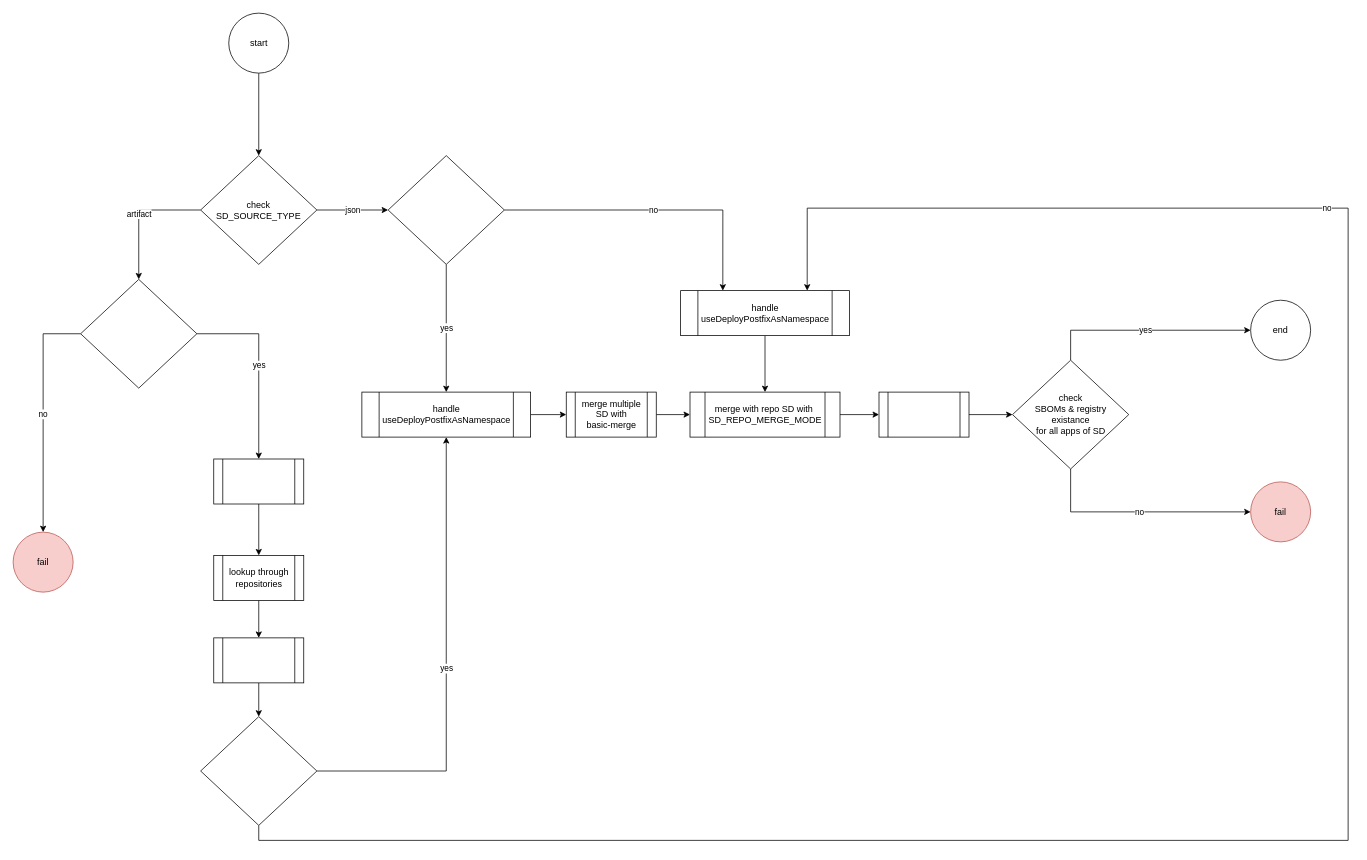
Image size: 1367x860. Some labels were removed from this diagram. The centre of each missing label's shape, as x and y in pixels:
check app reg def existance: the point at 138,333
check if SD_DATA is multiple: the point at 445,209
check if SD_VERSION is multiple: the point at 258,770
Download all SDs: the point at 258,660
resolve all SD's app:vers: the point at 258,481
store SD in repo: the point at 923,414
